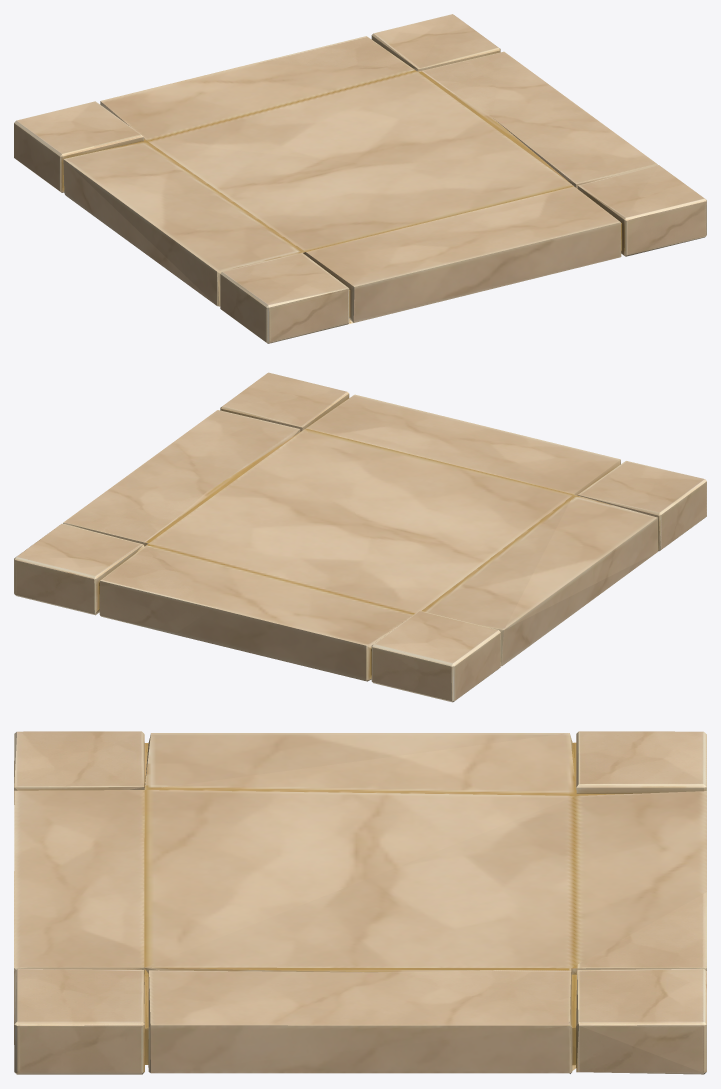
Rendered from TWN_FLR_marble_A.glb.
3 views of the same model, one above another, from view 1: azimuth 30°, elevation 25°; view 2: azimuth 150°, elevation 25°; view 3: azimuth 270°, elevation 25° (orthographic). The views are drawn at different scales.
Visible parts, largest first — view 1: Mesh_0; view 2: Mesh_0; view 3: Mesh_0.
Part boxes in pixels (x1=…): Mesh_0: x1=14, y1=14, x2=706, y2=343; Mesh_0: x1=14, y1=372, x2=706, y2=702; Mesh_0: x1=14, y1=731, x2=706, y2=1074.
Size of the model in its own units: 1.9 by 0.1606 by 1.9.
1 material, 1 textured.
